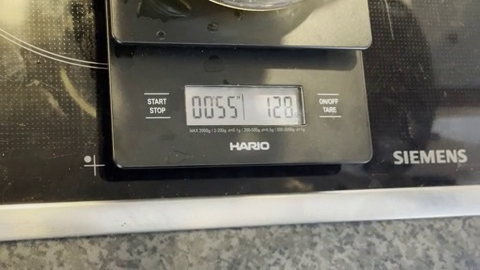display: (186, 85, 299, 125)
